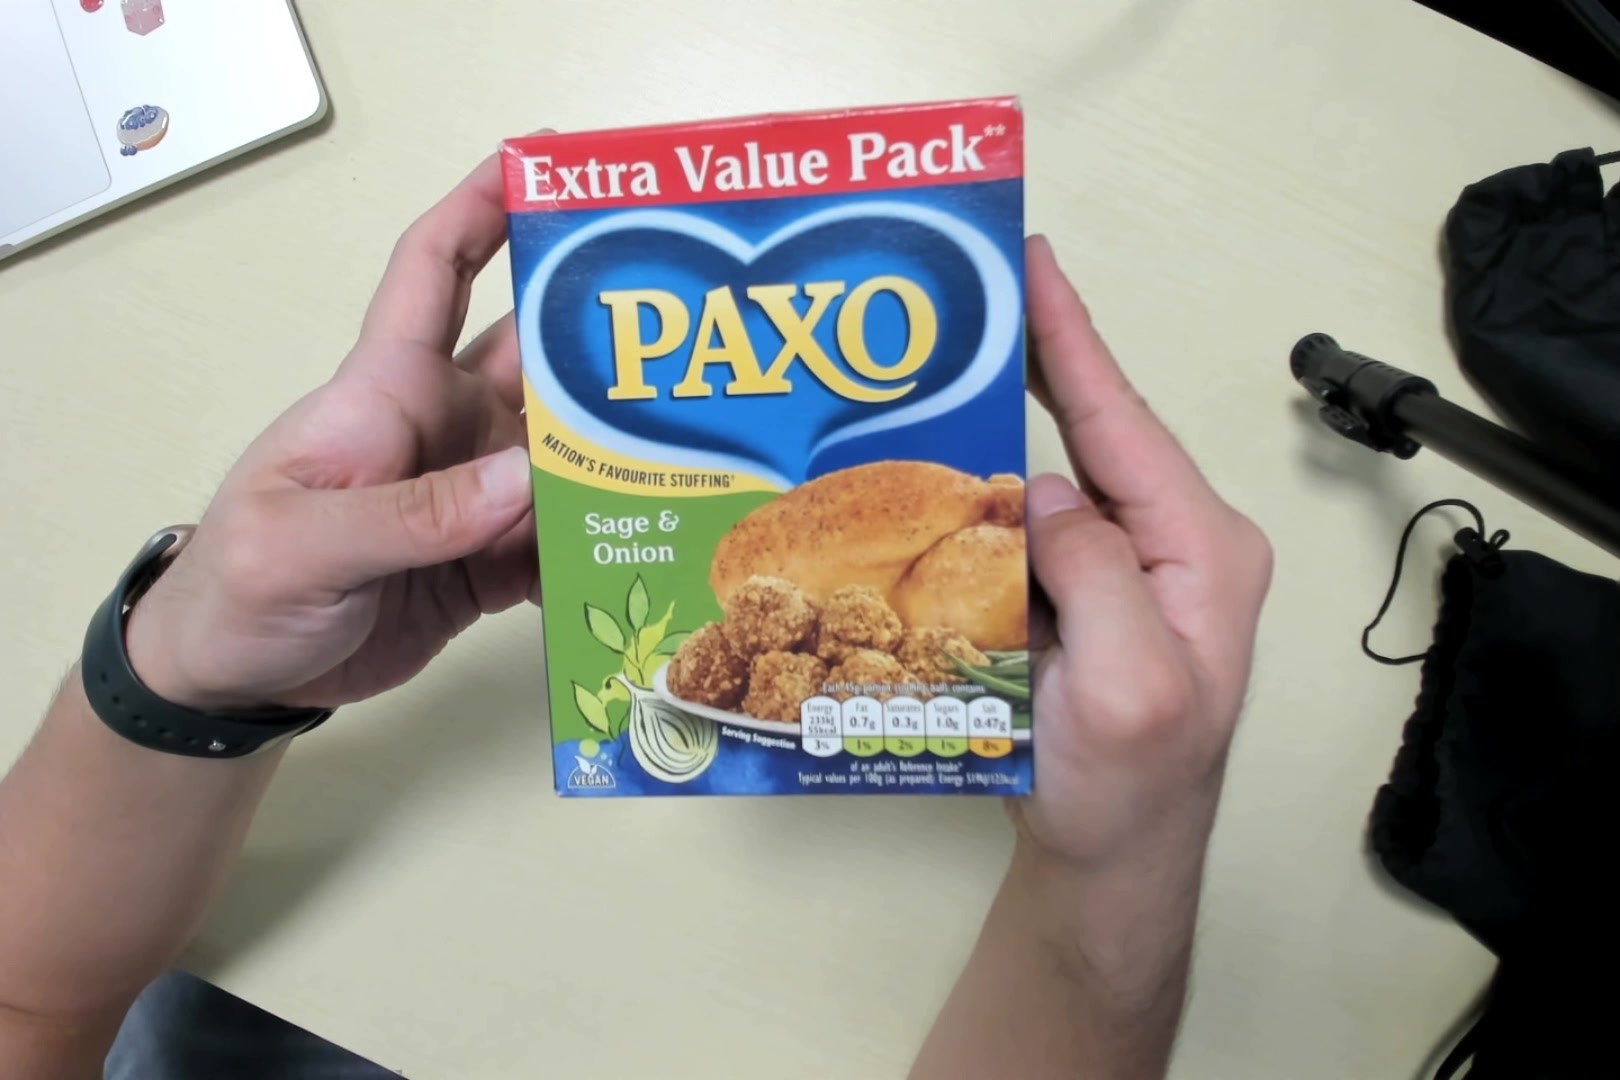OtherBakingNeeds_300-399g_NonHalal_NonHealthy: (507, 102, 1041, 806)
